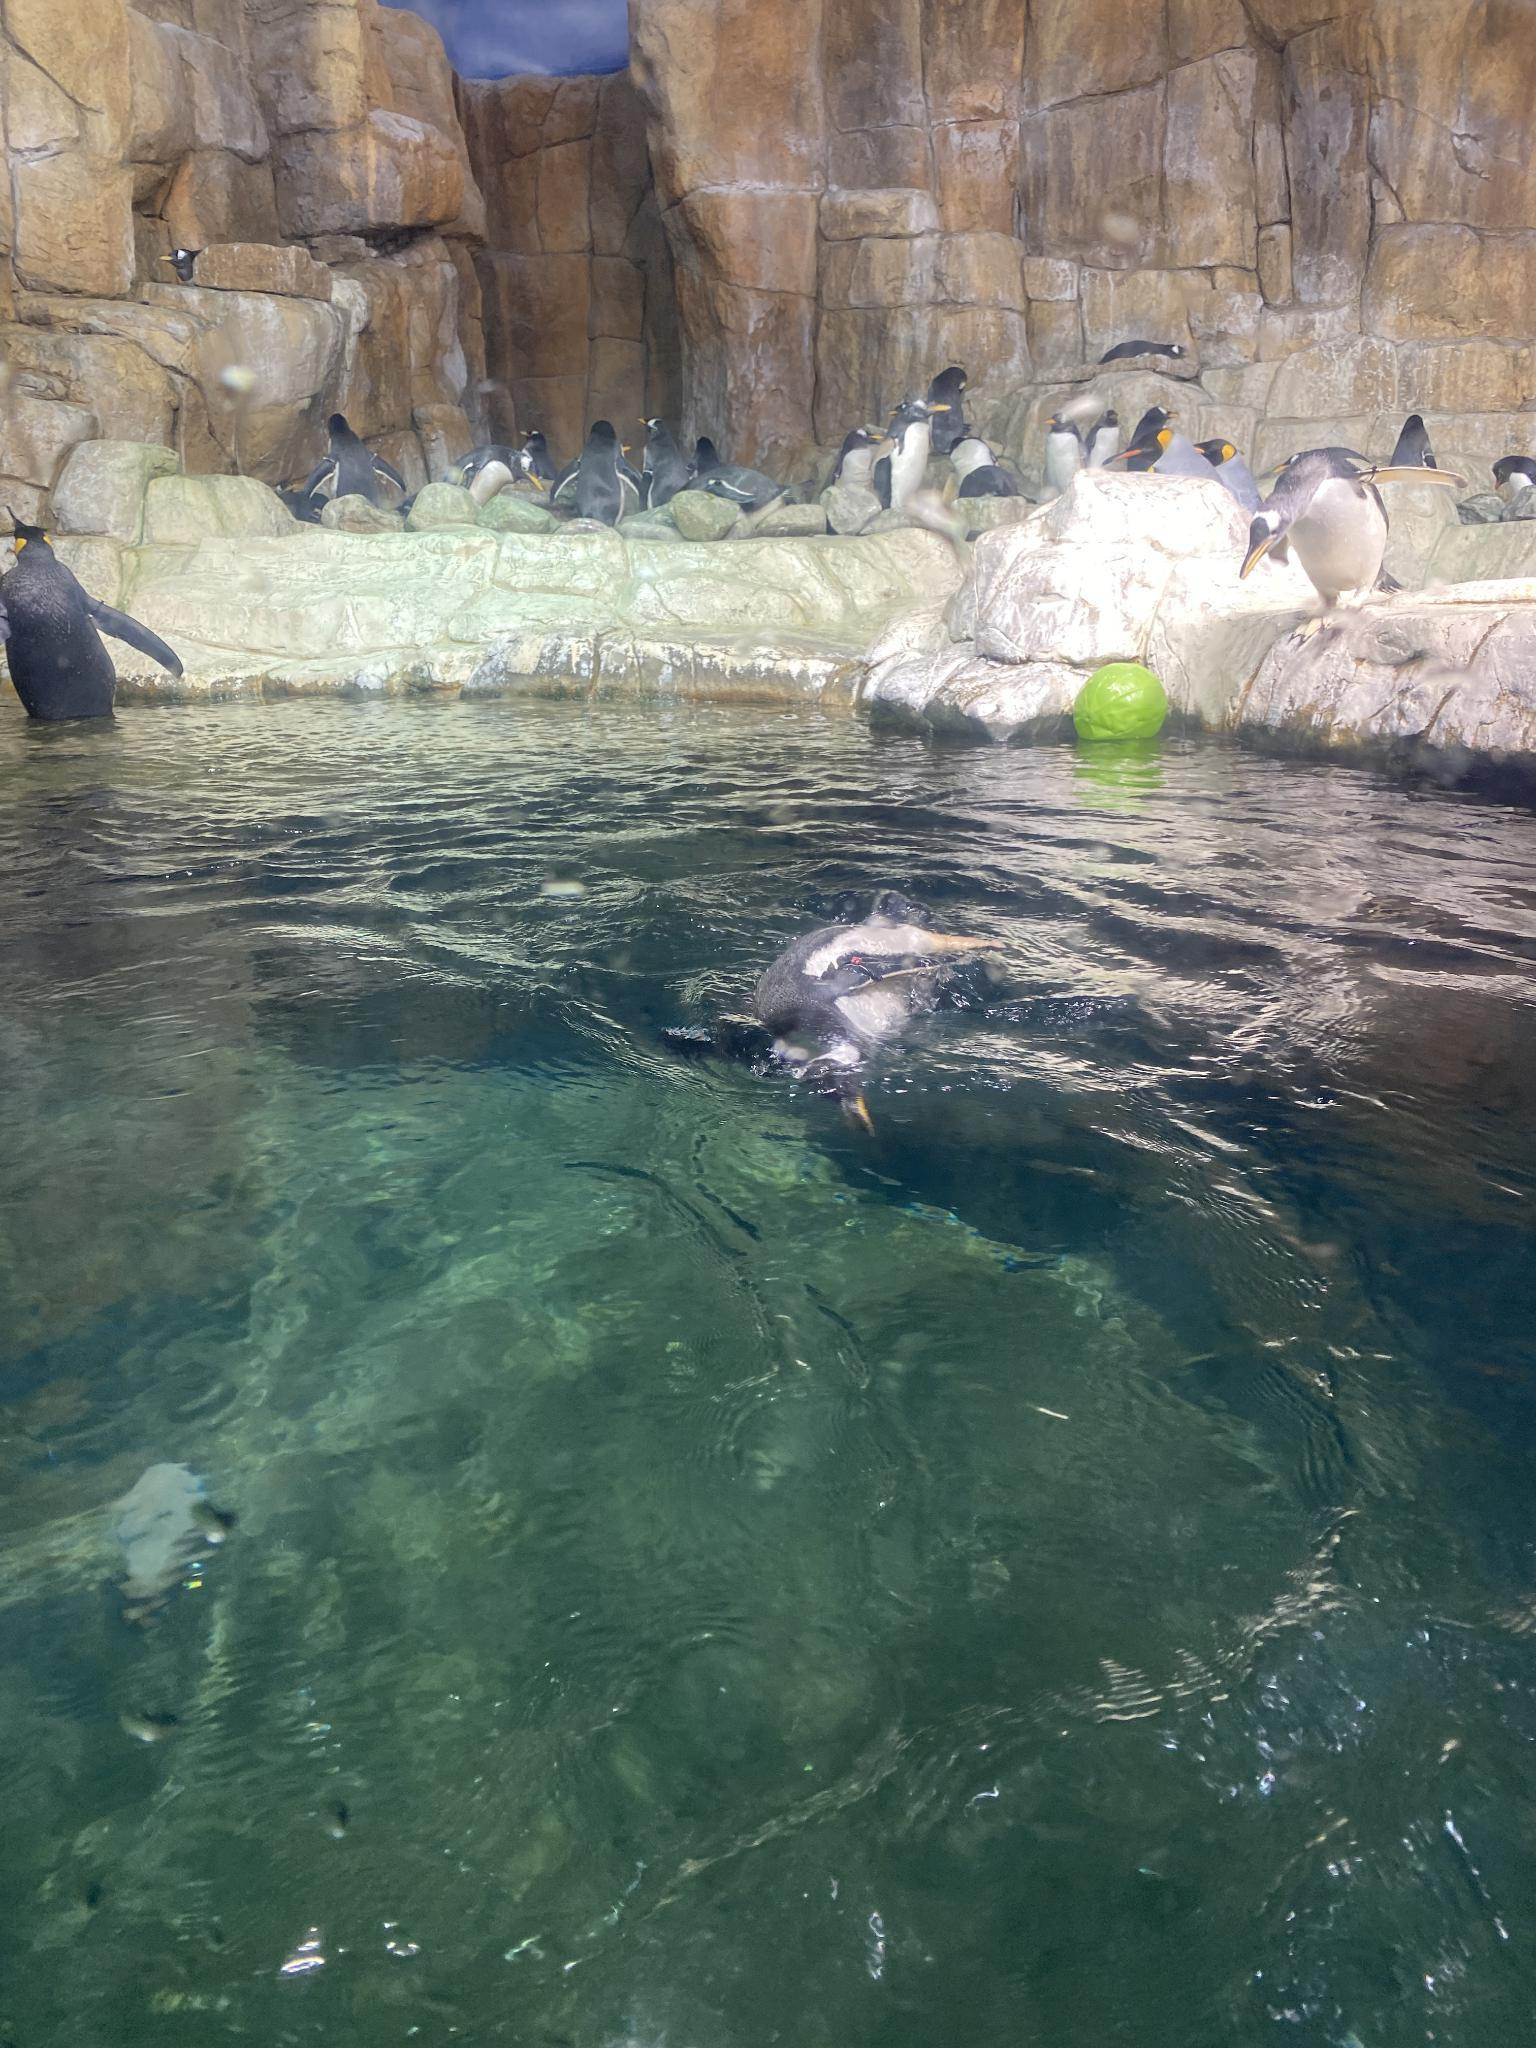penguin: (670, 905, 997, 1134), (0, 516, 182, 745), (1238, 448, 1396, 627), (290, 408, 407, 529), (553, 419, 641, 522), (670, 431, 771, 514), (453, 440, 537, 514), (886, 397, 952, 490), (921, 363, 975, 469), (816, 423, 883, 506), (1183, 434, 1234, 487), (1084, 405, 1128, 466), (1136, 405, 1175, 468), (1047, 418, 1078, 492), (1400, 410, 1434, 464), (1496, 447, 1533, 490)
